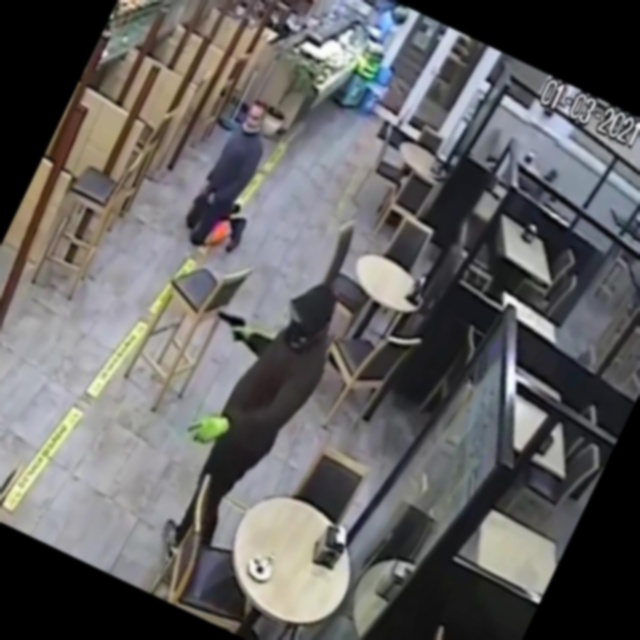gun: (199, 289, 264, 356)
